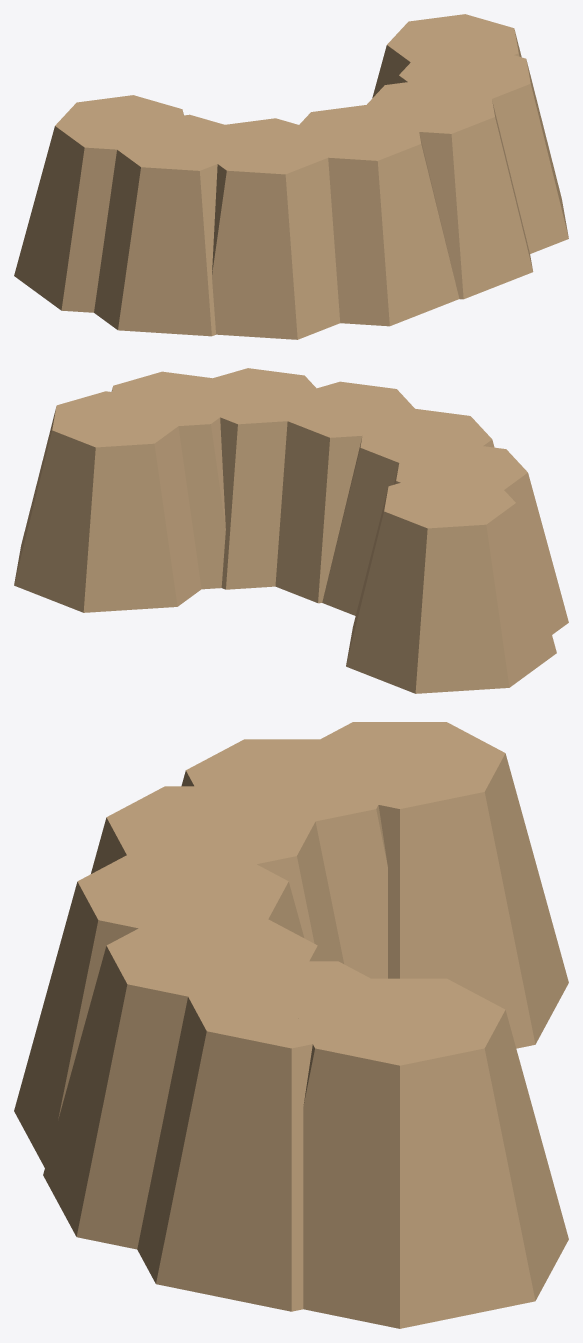
The model's file is supermarket-operations-croissant-97ed2ed8__26872.glb.
3 renders of one model, top to bottom at view 1: azimuth 30°, elevation 25°; view 2: azimuth 150°, elevation 25°; view 3: azimuth 270°, elevation 25°, orthographic. The views are drawn at different scales.
Parts seen in each view (by area): view 1: croissant; view 2: croissant; view 3: croissant.
Boxes of the visible parts, bbox=[...] form: croissant: bbox=[14, 14, 568, 339]; croissant: bbox=[14, 368, 568, 693]; croissant: bbox=[14, 722, 568, 1328].
Size of the model in its own units: 0.216 by 0.06 by 0.128.
